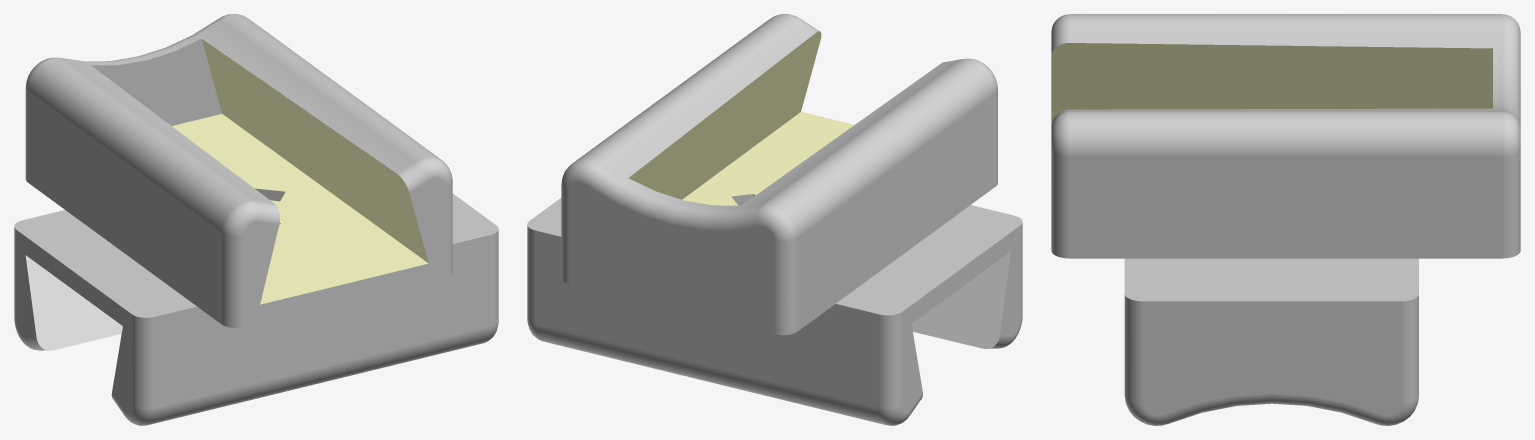
File: join_90_r.glb
3 renders of one model, left to right at view 1: azimuth 30°, elevation 25°; view 2: azimuth 150°, elevation 25°; view 3: azimuth 270°, elevation 25°, orthographic. The views are drawn at different scales.
Visible parts, largest first — view 1: Body2; view 2: Body2; view 3: Body2.
Boxes of the visible parts, <box> form: Body2: <box>14,14,498,425</box>; Body2: <box>527,14,1022,425</box>; Body2: <box>1051,14,1520,425</box>.
Size of the model in its own units: 2.55 by 1.57 by 2.55.
